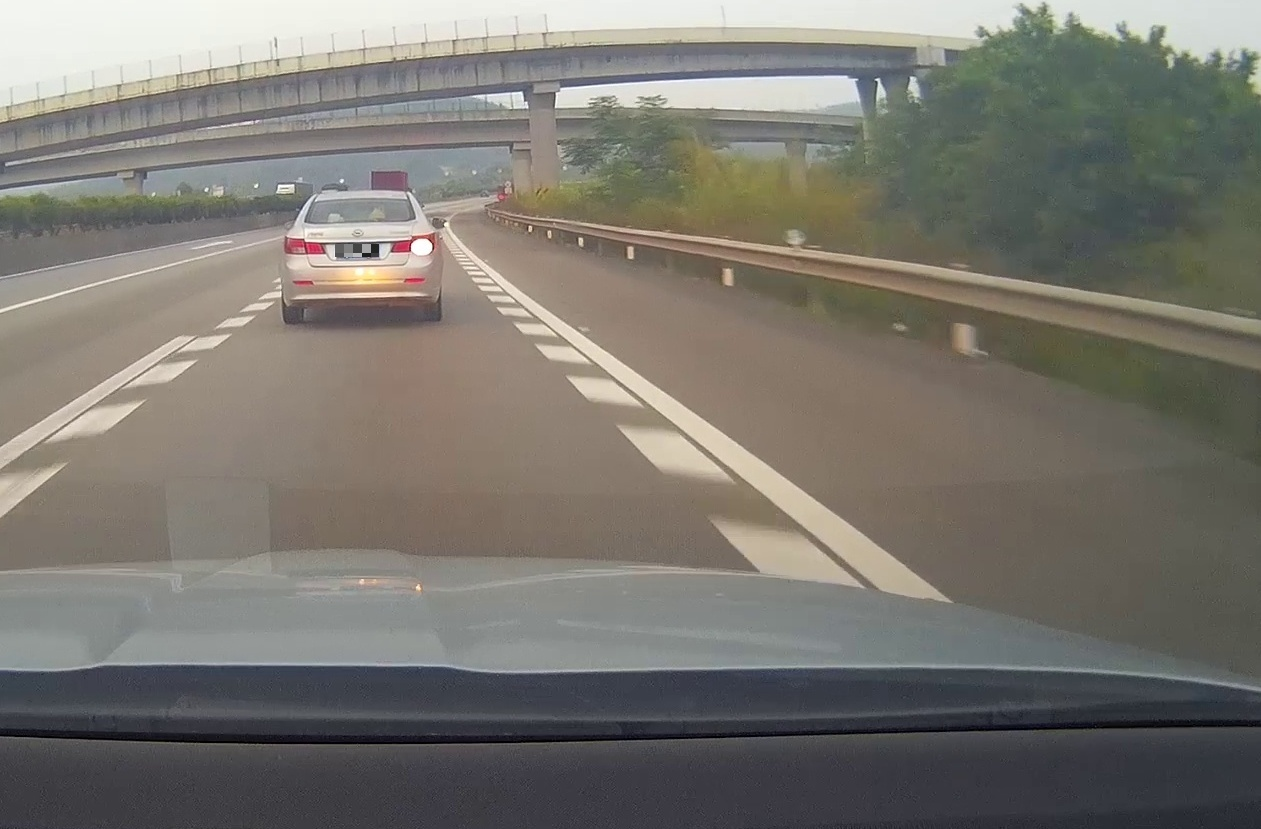L_light: (284, 236, 325, 254)
R_light: (389, 231, 436, 253)
T_light: (348, 199, 373, 203)
day-right: (280, 192, 441, 322)
plate_1: (335, 244, 379, 257)
